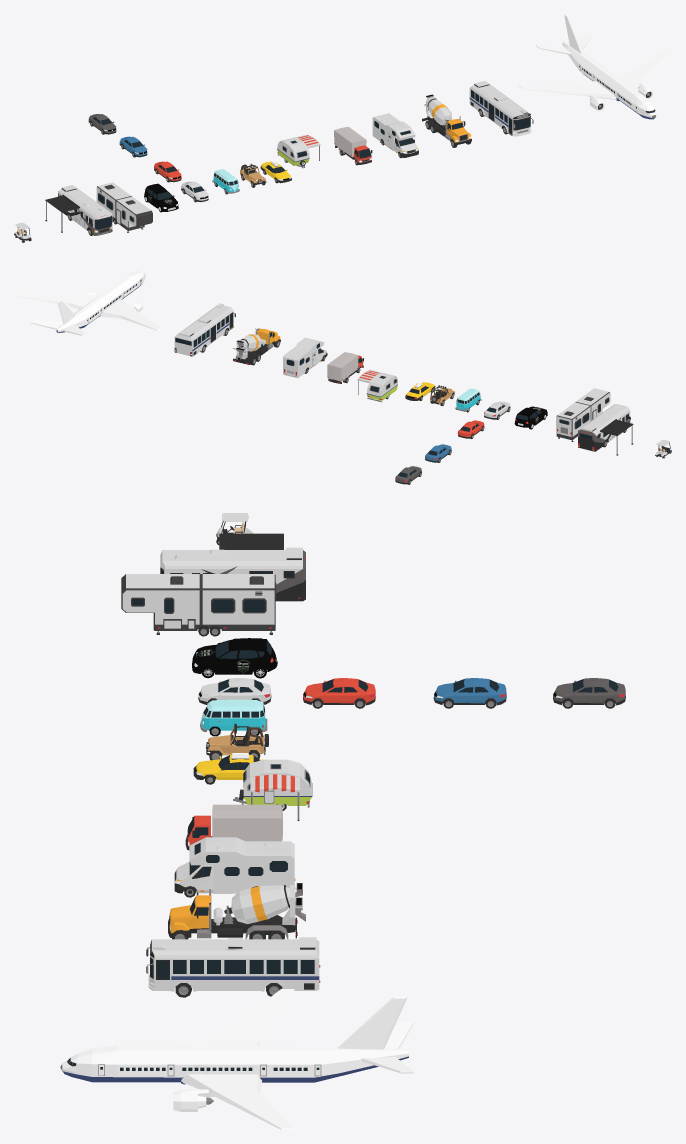
The model's file is vehicles.glb.
The picture shows the model from 3 angles, top to bottom: view 1: azimuth 30°, elevation 25°; view 2: azimuth 150°, elevation 25°; view 3: azimuth 270°, elevation 25°; orthographic projection. The views are drawn at different scales.
Parts seen in each view (by area): view 1: plane-passenger, city-bus, car-camper-bus-standing, car-caravan-big-standing, camping-van, cement-truck, truck, camper, patrol-car, hippie-van, taxi, car-sedan-blue (+4 smaller); view 2: plane-passenger, city-bus, car-camper-bus-standing, car-caravan-big-standing, camping-van, cement-truck, camper, truck, patrol-car, hippie-van, taxi, car-sedan-white (+4 smaller); view 3: plane-passenger, city-bus, car-caravan-big-standing, camping-van, cement-truck, car-camper-bus-standing, truck, camper, patrol-car, hippie-van, car-sedan-blue, car-sedan-gray (+4 smaller).
Boxes of the visible parts, <box> form: plane-passenger: <box>518,14,671,119</box>; city-bus: <box>469,81,533,136</box>; car-camper-bus-standing: <box>45,185,112,235</box>; car-caravan-big-standing: <box>96,182,152,232</box>; camping-van: <box>372,113,418,157</box>; cement-truck: <box>422,94,471,147</box>; truck: <box>334,126,372,165</box>; camper: <box>277,134,320,168</box>; patrol-car: <box>144,183,178,212</box>; hippie-van: <box>212,169,239,194</box>; taxi: <box>260,161,291,183</box>; car-sedan-blue: <box>119,136,147,157</box>; plane-passenger: <box>14,271,160,335</box>; city-bus: <box>174,303,235,356</box>; car-camper-bus-standing: <box>578,404,633,455</box>; car-caravan-big-standing: <box>556,388,610,441</box>; camping-van: <box>283,337,327,378</box>; cement-truck: <box>232,328,280,365</box>; camper: <box>357,370,397,402</box>; truck: <box>327,352,363,383</box>; patrol-car: <box>514,406,547,429</box>; hippie-van: <box>455,388,481,412</box>; taxi: <box>405,382,435,400</box>; car-sedan-white: <box>484,401,510,419</box>; plane-passenger: <box>60,989,413,1129</box>; city-bus: <box>146,937,320,997</box>; car-caravan-big-standing: <box>121,574,276,636</box>; camping-van: <box>174,837,295,897</box>; cement-truck: <box>168,883,305,939</box>; car-camper-bus-standing: <box>160,533,305,601</box>; truck: <box>185,804,282,850</box>; camper: <box>233,759,312,820</box>; patrol-car: <box>192,638,277,678</box>; hippie-van: <box>200,699,267,736</box>; car-sedan-blue: <box>433,678,506,708</box>; car-sedan-gray: <box>553,678,625,708</box>.
Size of the model in its own units: 95.5 by 6.71 by 36.63.
2 materials, 2 textured.
